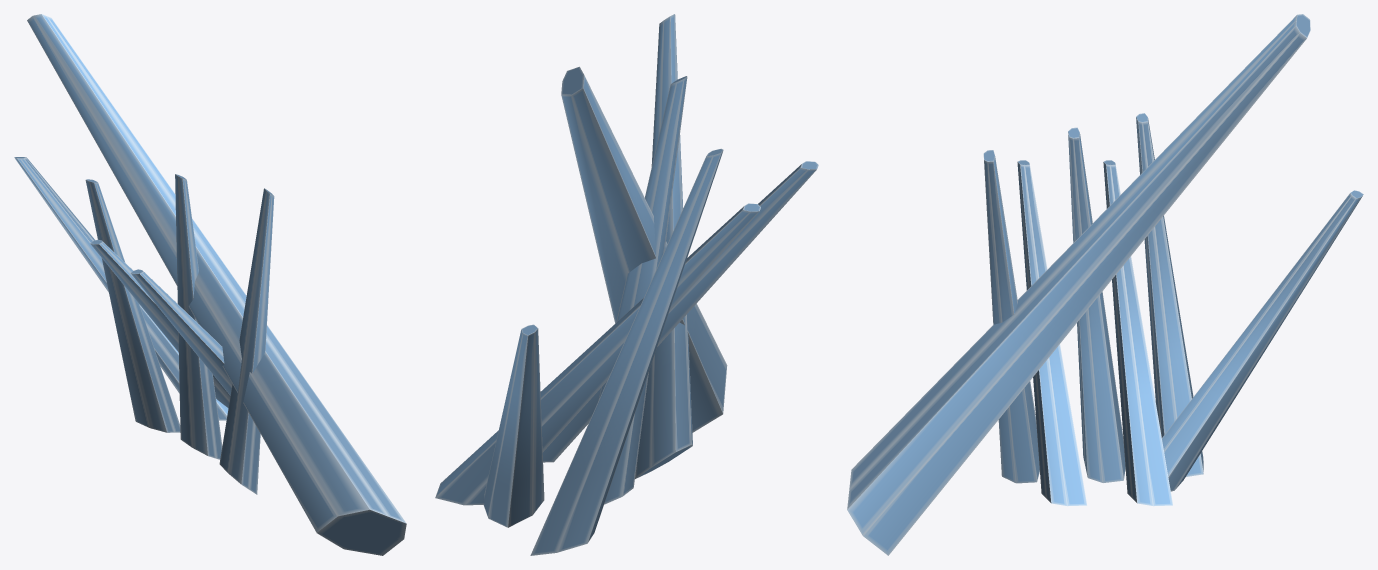
File: wall_railing_05.fbx
3 renders of one model, left to right at view 1: azimuth 30°, elevation 25°; view 2: azimuth 150°, elevation 25°; view 3: azimuth 270°, elevation 25°, orthographic. The views are drawn at different scales.
Parts seen in each view (by area): view 1: wall_railing_05; view 2: wall_railing_05; view 3: wall_railing_05.
Part boxes in pixels (bbox=[...]): wall_railing_05: bbox=[14, 14, 406, 555]; wall_railing_05: bbox=[435, 14, 818, 555]; wall_railing_05: bbox=[847, 14, 1363, 555].
Size of the model in its own units: 0.7262 by 1.49 by 1.5.
1 material, 1 textured.
